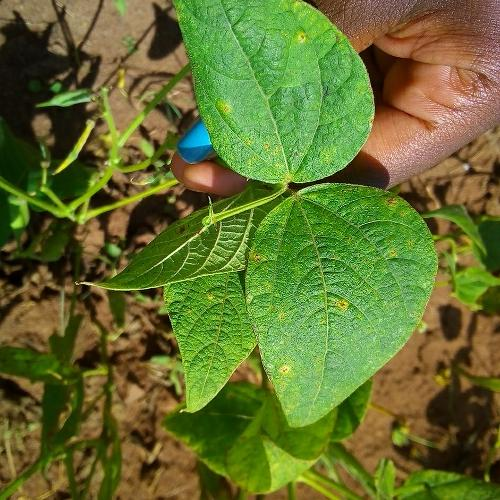hawar: (191, 59, 250, 142), (304, 273, 368, 320), (290, 12, 326, 66), (266, 361, 304, 382)
